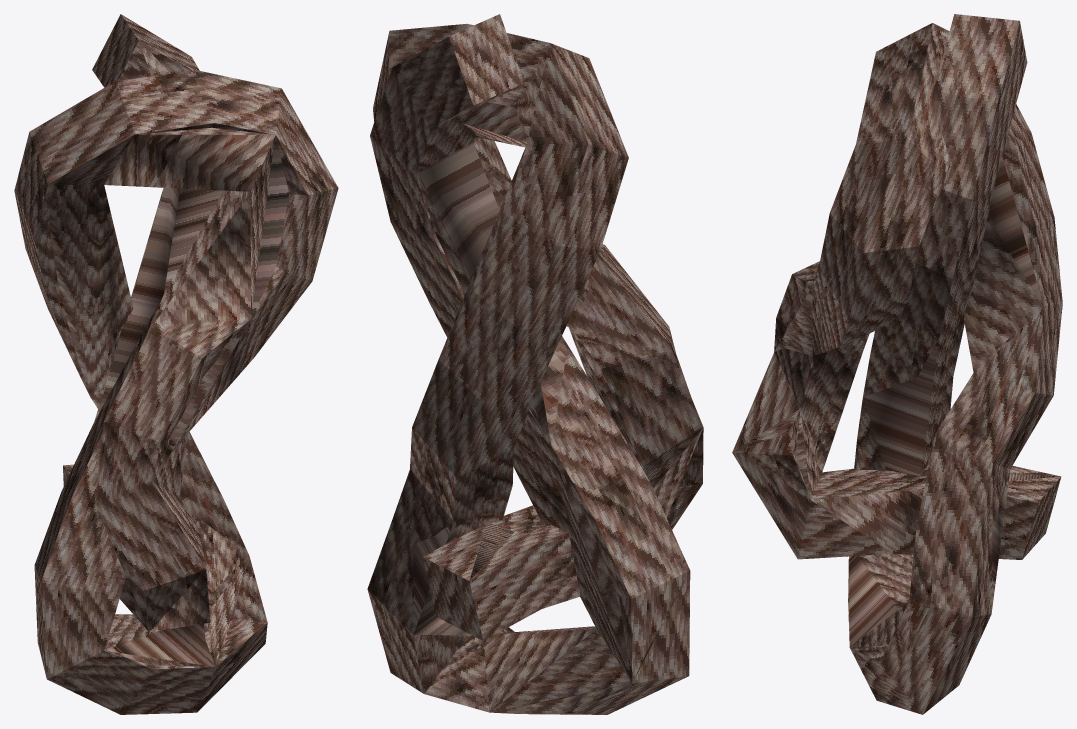
The model's file is item_rope.glb.
3 views of the same model, side by side, from view 1: azimuth 30°, elevation 25°; view 2: azimuth 150°, elevation 25°; view 3: azimuth 270°, elevation 25° (orthographic). The views are drawn at different scales.
Visible parts, largest first — view 1: RopeBundle; view 2: RopeBundle; view 3: RopeBundle.
Boxes of the visible parts, x1,y1,x2,y2 form: RopeBundle: (14, 14, 338, 714); RopeBundle: (367, 14, 703, 714); RopeBundle: (732, 14, 1062, 714).
Size of the model in its own units: 0.2567 by 0.5519 by 0.2447.
1 material, 1 textured.
